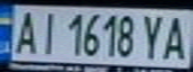1: (60, 10, 84, 56), (100, 11, 121, 57)
6: (81, 10, 103, 57)
8: (115, 11, 139, 58)
A: (157, 11, 193, 61), (9, 8, 42, 55)
I: (33, 8, 60, 55)
Y: (139, 11, 169, 61)
